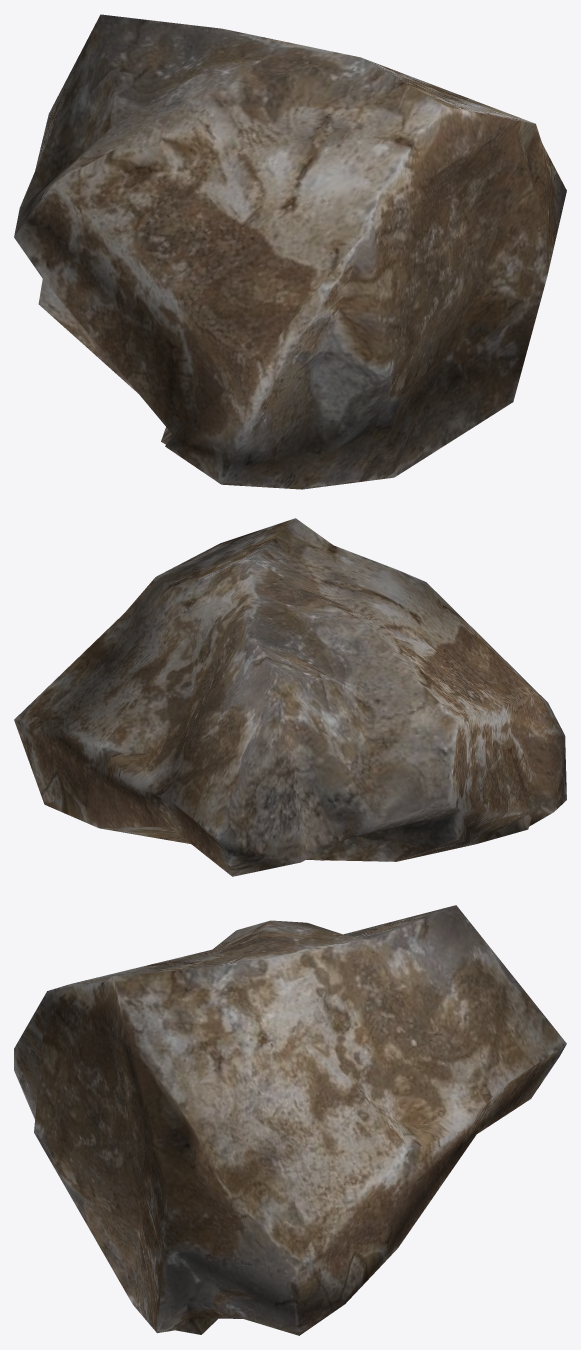
File: rock_scan08.fbx
3 views of the same model, one above another, from view 1: azimuth 30°, elevation 25°; view 2: azimuth 150°, elevation 25°; view 3: azimuth 270°, elevation 25° (orthographic). The views are drawn at different scales.
Visible parts, largest first — view 1: Rock08_LOD3; view 2: Rock08_LOD3; view 3: Rock08_LOD3.
Boxes of the visible parts, x1,y1,x2,y2 form: Rock08_LOD3: [14, 14, 566, 489]; Rock08_LOD3: [14, 518, 566, 876]; Rock08_LOD3: [14, 905, 566, 1335].
Bounding box in the file's own units: 170 × 116 × 166.
Materials: 1 (1 with a texture image).
